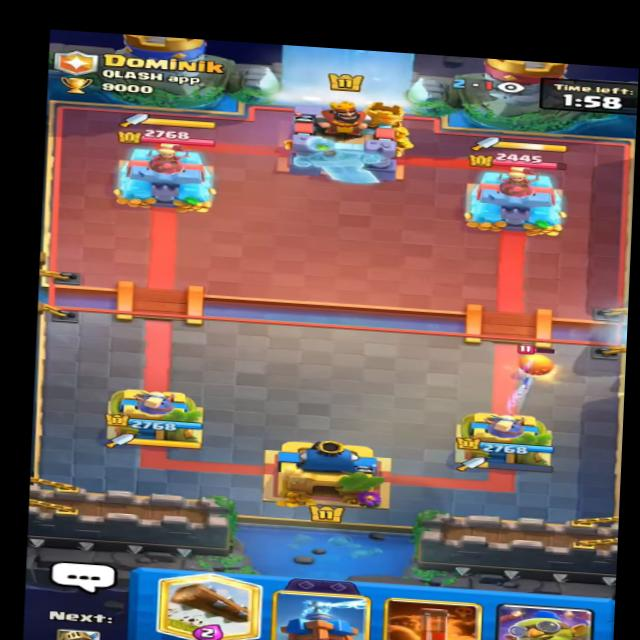phoenix-egg: (513, 343, 557, 380)
